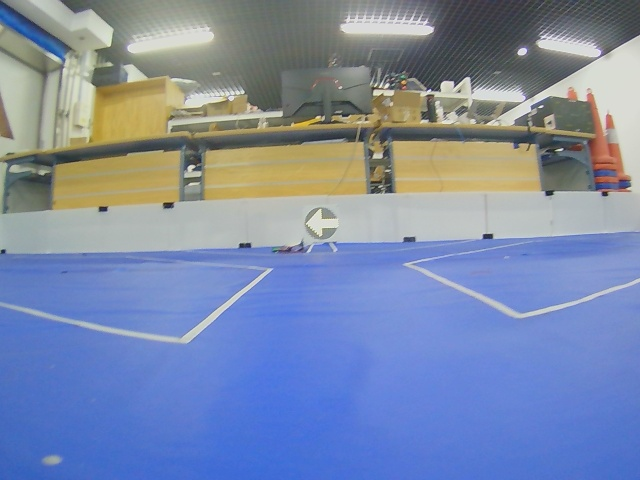left_yellow: (305, 208, 339, 239)
